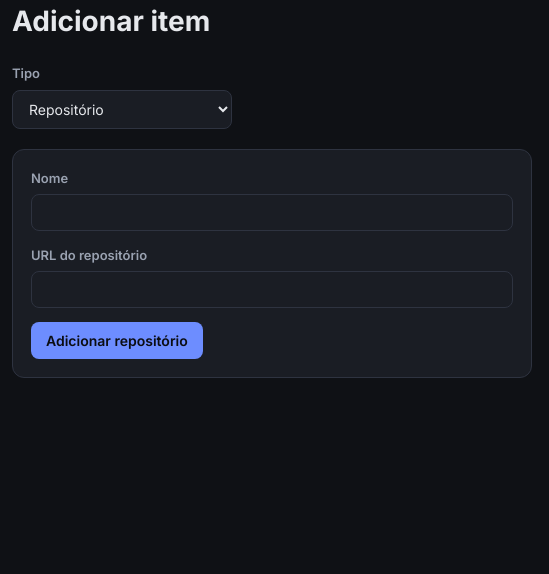
Test: AddPage › switches between repo and mcp forms based on the selected type
The image size is (549, 574).
Check: the field labelled "URL do repositório" is shown, box [31,271,513,308]
Select "MCP" in the dropdown labelled "Tipo" at (122, 109), box [12,90,232,128]
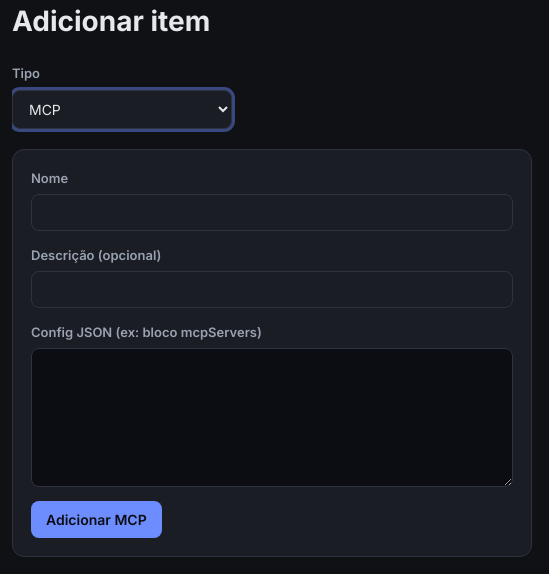
Check: the text box labelled "Config JSON (ex: bloco mcpServers)" is shown, box [31,348,513,487]
